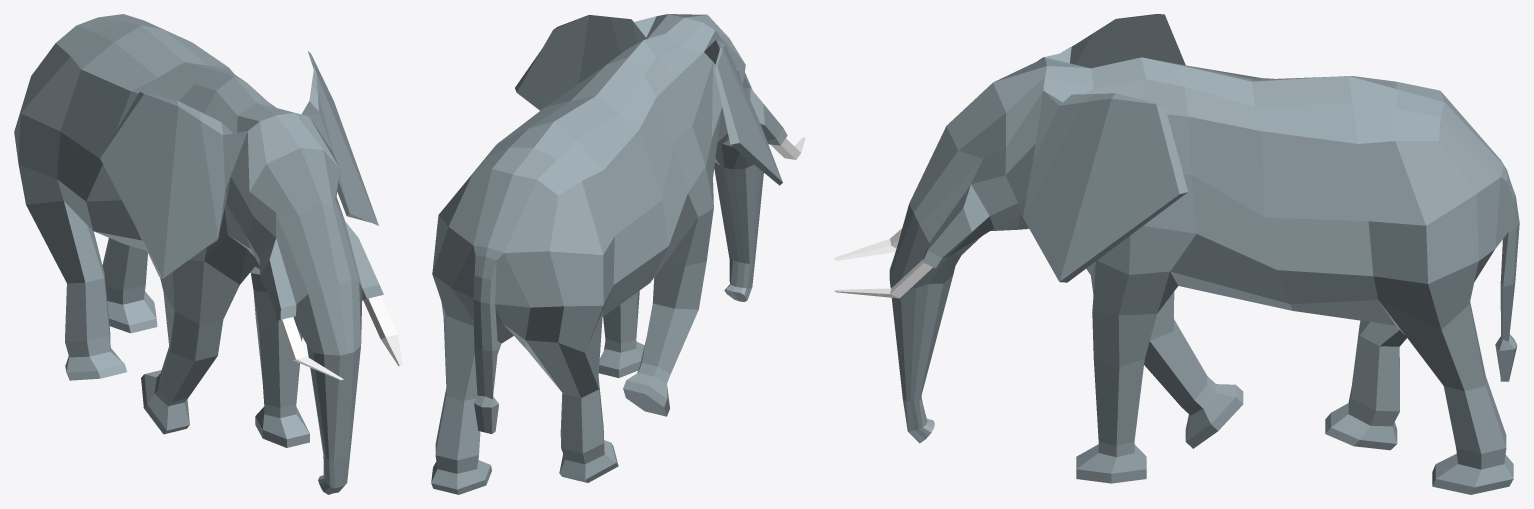
The model's file is Elefant1.fbx.
3 views of the same model, side by side, from view 1: azimuth 30°, elevation 25°; view 2: azimuth 150°, elevation 25°; view 3: azimuth 270°, elevation 25° (orthographic). The views are drawn at different scales.
Visible parts, largest first — view 1: Elefant1; view 2: Elefant1; view 3: Elefant1.
Part boxes in pixels (x1,y1,x2,y2): Elefant1: [14, 14, 402, 494]; Elefant1: [431, 14, 805, 494]; Elefant1: [834, 14, 1519, 494].
Size of the model in its own units: 2.77 by 4.15 by 6.3.
